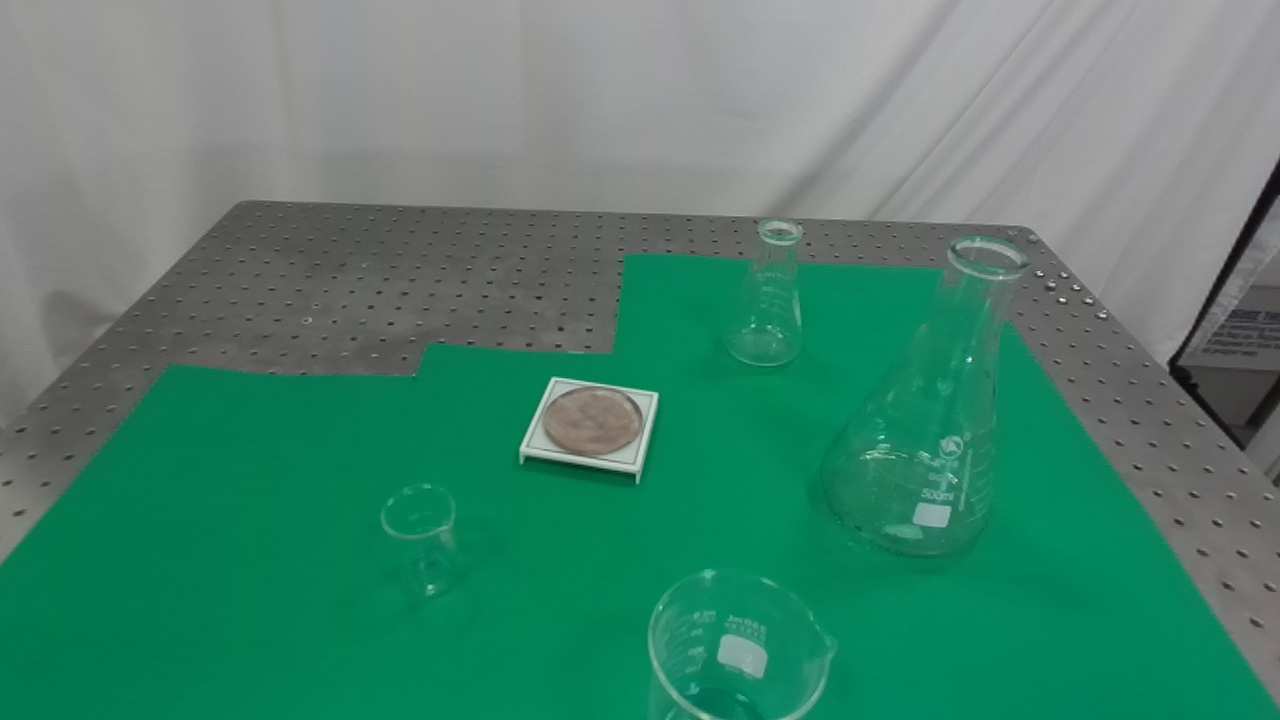glass: (806, 232, 1032, 563), (636, 563, 843, 720), (715, 216, 809, 377), (377, 478, 464, 611)
plate: (512, 374, 664, 490)
